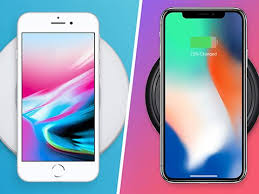iphone: (155, 4, 249, 184), (12, 11, 100, 182)
iphone8: (155, 2, 249, 182), (13, 12, 101, 183)
